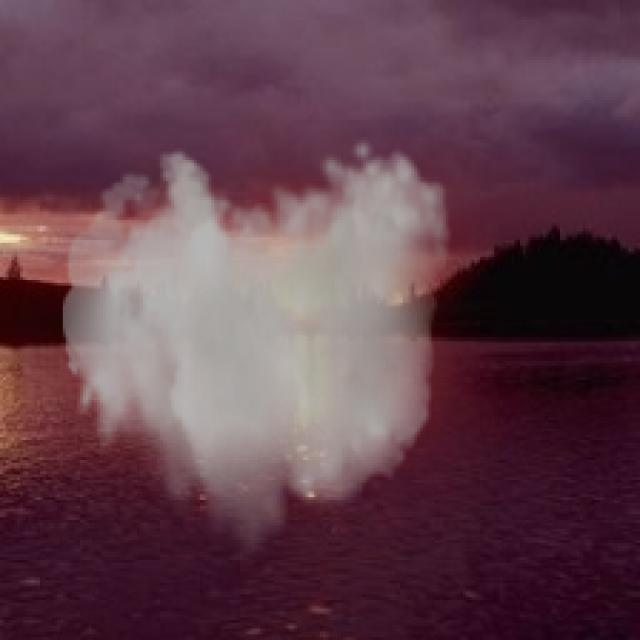smoke: (63, 137, 451, 563)
